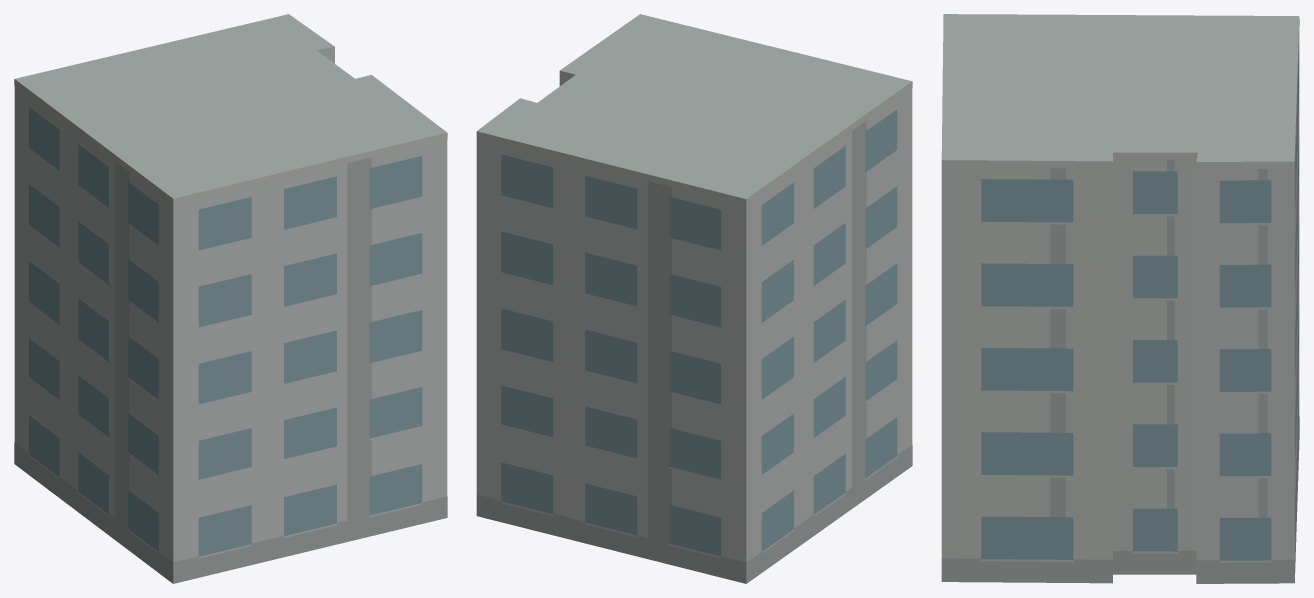
File: survey-upis-32981606.glb
3 renders of one model, left to right at view 1: azimuth 30°, elevation 25°; view 2: azimuth 150°, elevation 25°; view 3: azimuth 270°, elevation 25°, orthographic. The views are drawn at different scales.
Visible parts, largest first — view 1: survey-upis-32981606.tmp; view 2: survey-upis-32981606.tmp; view 3: survey-upis-32981606.tmp.
Part boxes in pixels (<box>): survey-upis-32981606.tmp: <box>14,14,447,583</box>; survey-upis-32981606.tmp: <box>476,14,912,583</box>; survey-upis-32981606.tmp: <box>941,14,1299,583</box>.
Size of the model in its own units: 10.62 by 14.1 by 10.85.
